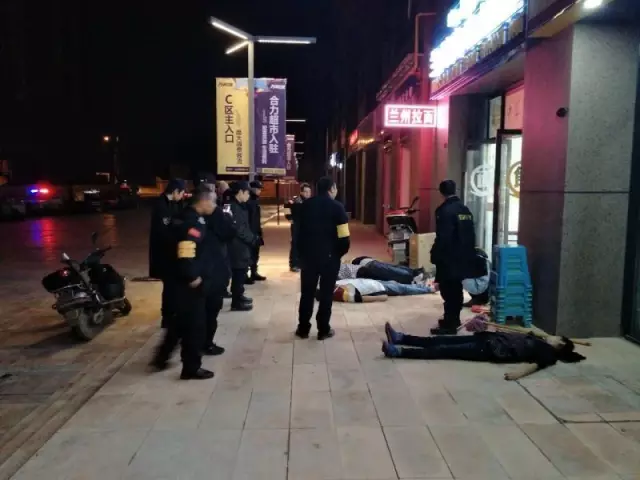fall: (327, 245, 437, 302)
